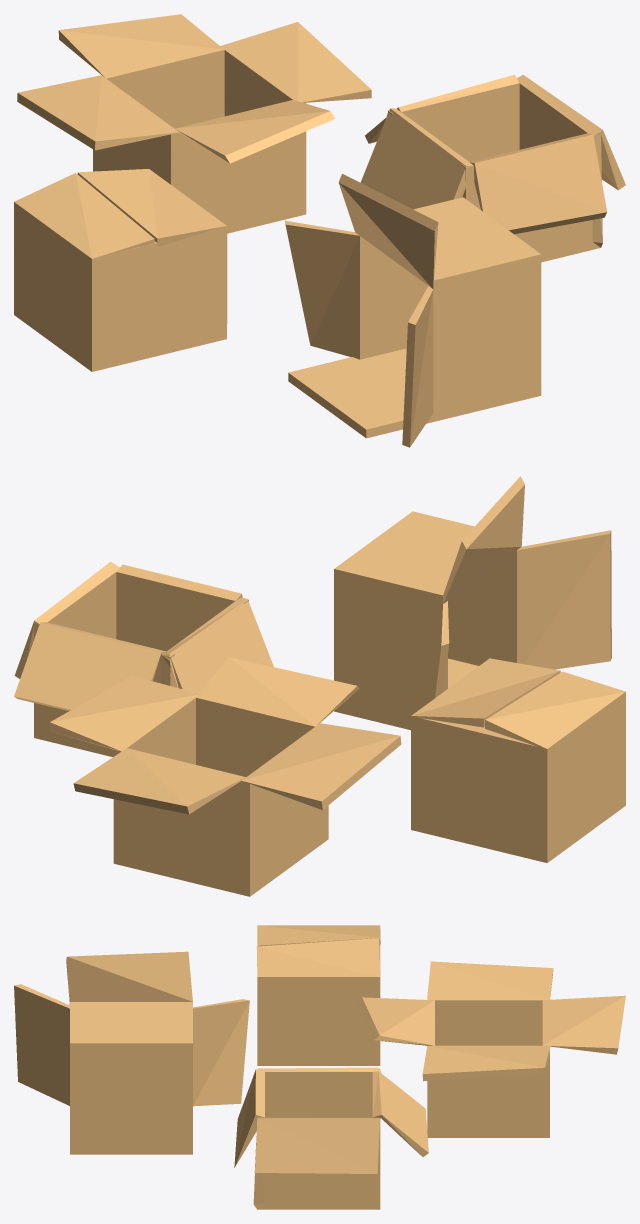
Rendered from cardboard-box-prop.glb.
3 views of the same model, one above another, from view 1: azimuth 30°, elevation 25°; view 2: azimuth 150°, elevation 25°; view 3: azimuth 270°, elevation 25° (orthographic). The views are drawn at different scales.
Parts seen in each view (by area): view 1: group697961705, group928296987, group1923866177, group1028906812; view 2: group928296987, group697961705, group1923866177, group1028906812; view 3: group697961705, group928296987, group1028906812, group1923866177.
Boxes of the visible parts, <box> form: group697961705: <box>284,173,541,447</box>; group928296987: <box>17,14,371,233</box>; group1923866177: <box>14,169,227,371</box>; group1028906812: <box>360,74,625,262</box>; group928296987: <box>49,657,401,896</box>; group697961705: <box>334,476,611,730</box>; group1923866177: <box>411,658,625,862</box>; group1028906812: <box>14,561,273,756</box>; group697961705: <box>14,951,249,1154</box>; group928296987: <box>356,961,625,1137</box>; group1028906812: <box>234,1067,428,1209</box>; group1923866177: <box>256,925,380,1065</box>.
Bounding box in the file's own units: 1.49 × 0.5362 × 1.88.
